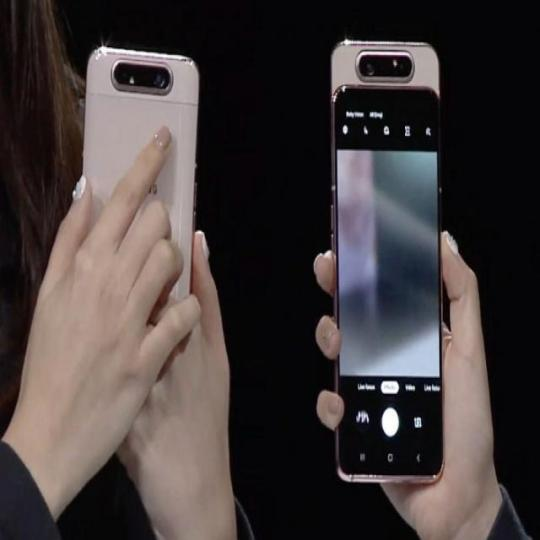phone: (330, 38, 468, 491), (79, 42, 210, 376)
